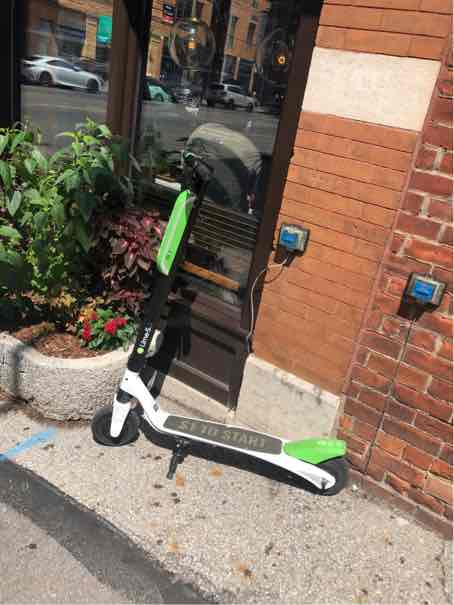scooter: (90, 143, 359, 507)
